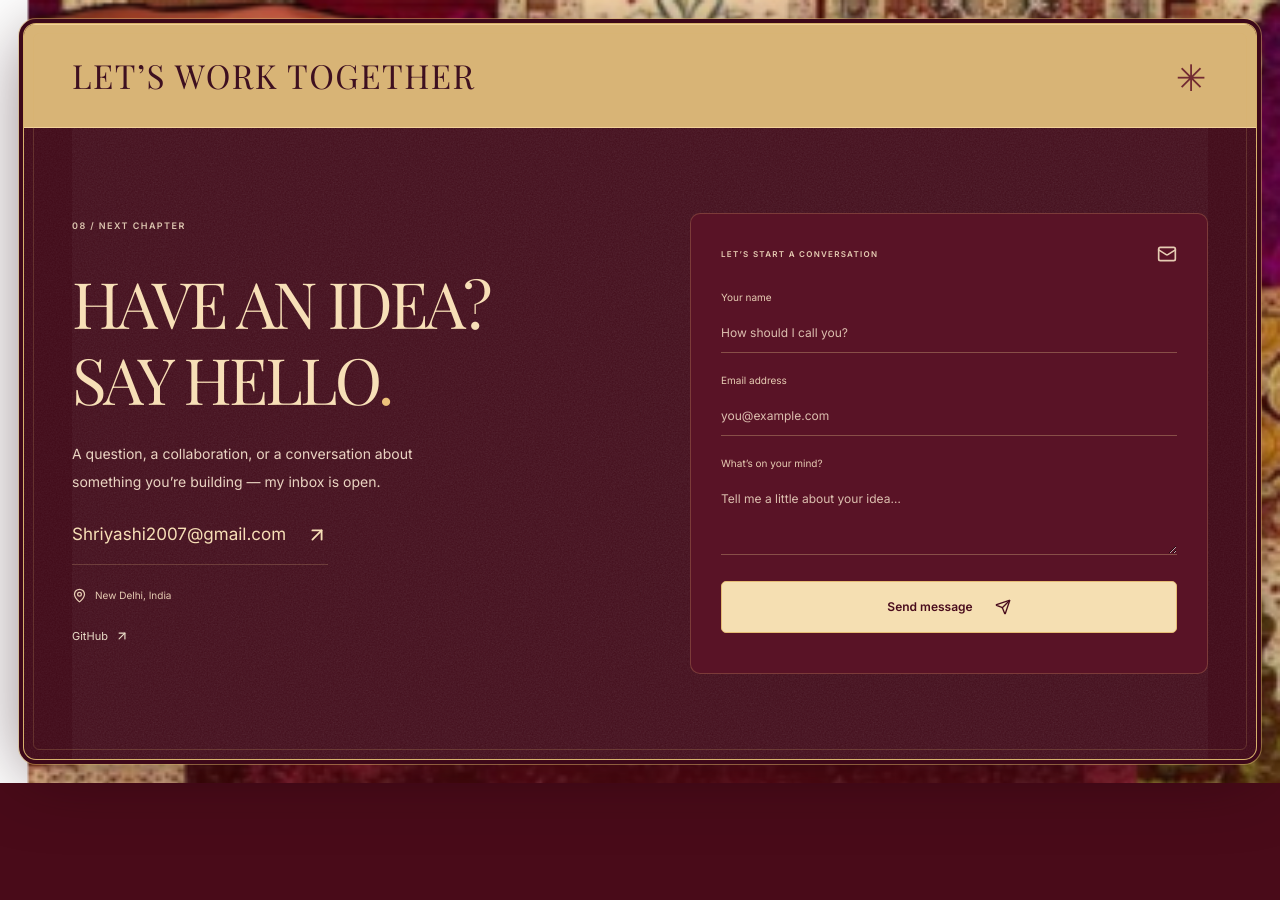
Test: reports delivery failure honestly
Type "Shriyashi" into the field labelled "Your name".
click(949, 333); type("Shriyashi")  # box [721,314,1177,353]
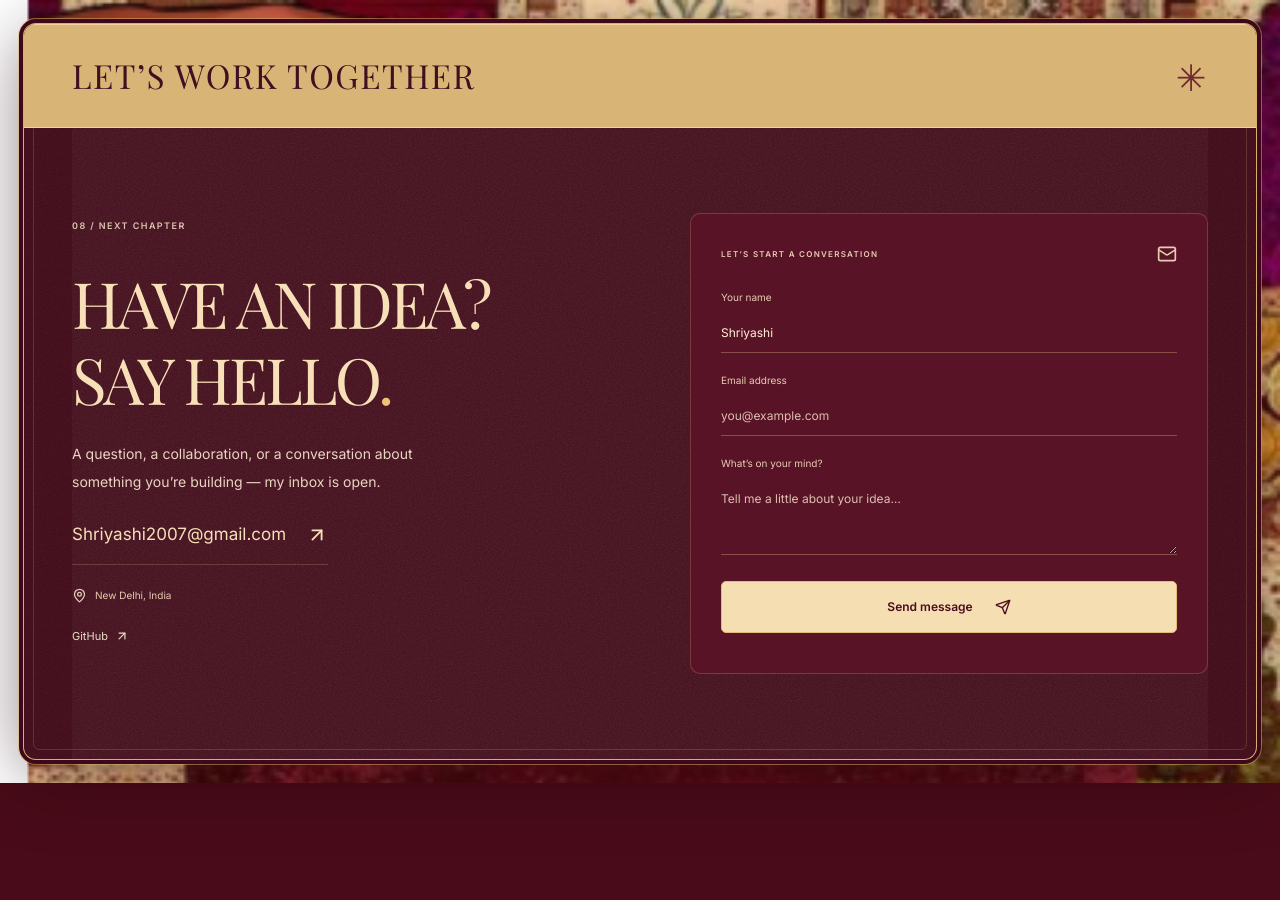
Type "test@example.com" into the field labelled "Email address".
click(949, 416); type("test@example.com")  # box [721,397,1177,436]
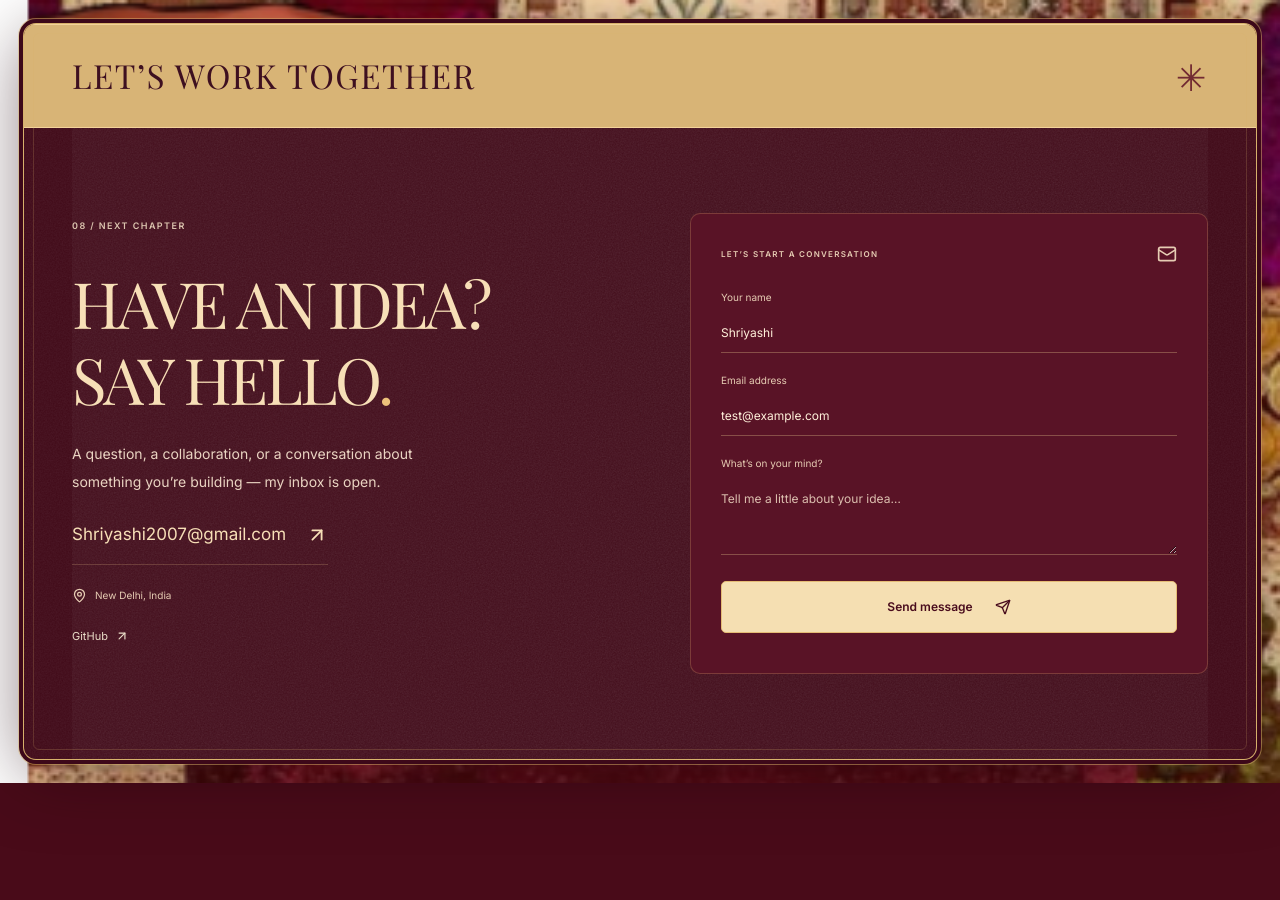
Type "Let us build something together." into the text box labelled "What’s on your mind?".
click(949, 517); type("Let us build something together.")  # box [721,480,1177,555]
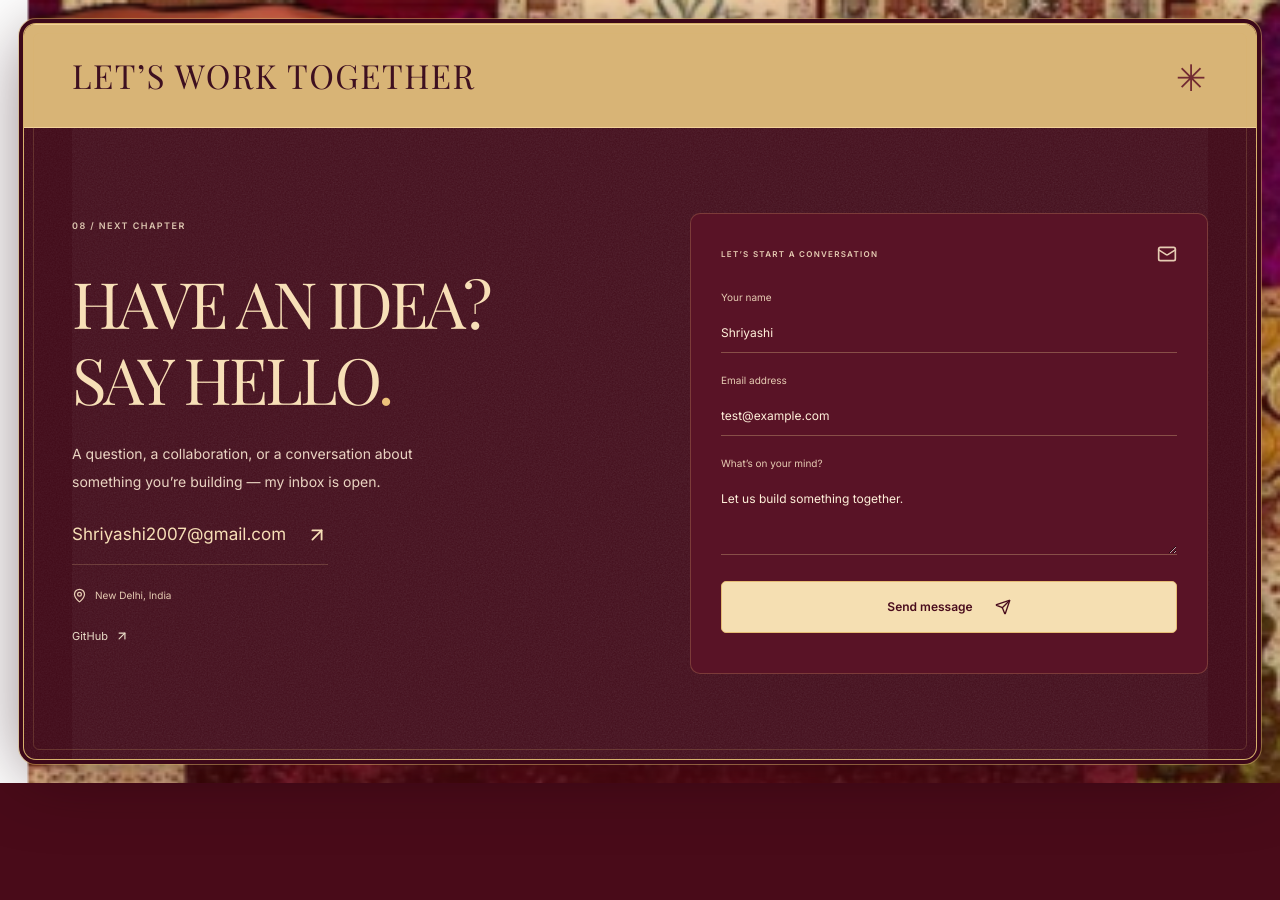
Click the button "Send message".
click(949, 607)  # box [721,581,1177,633]
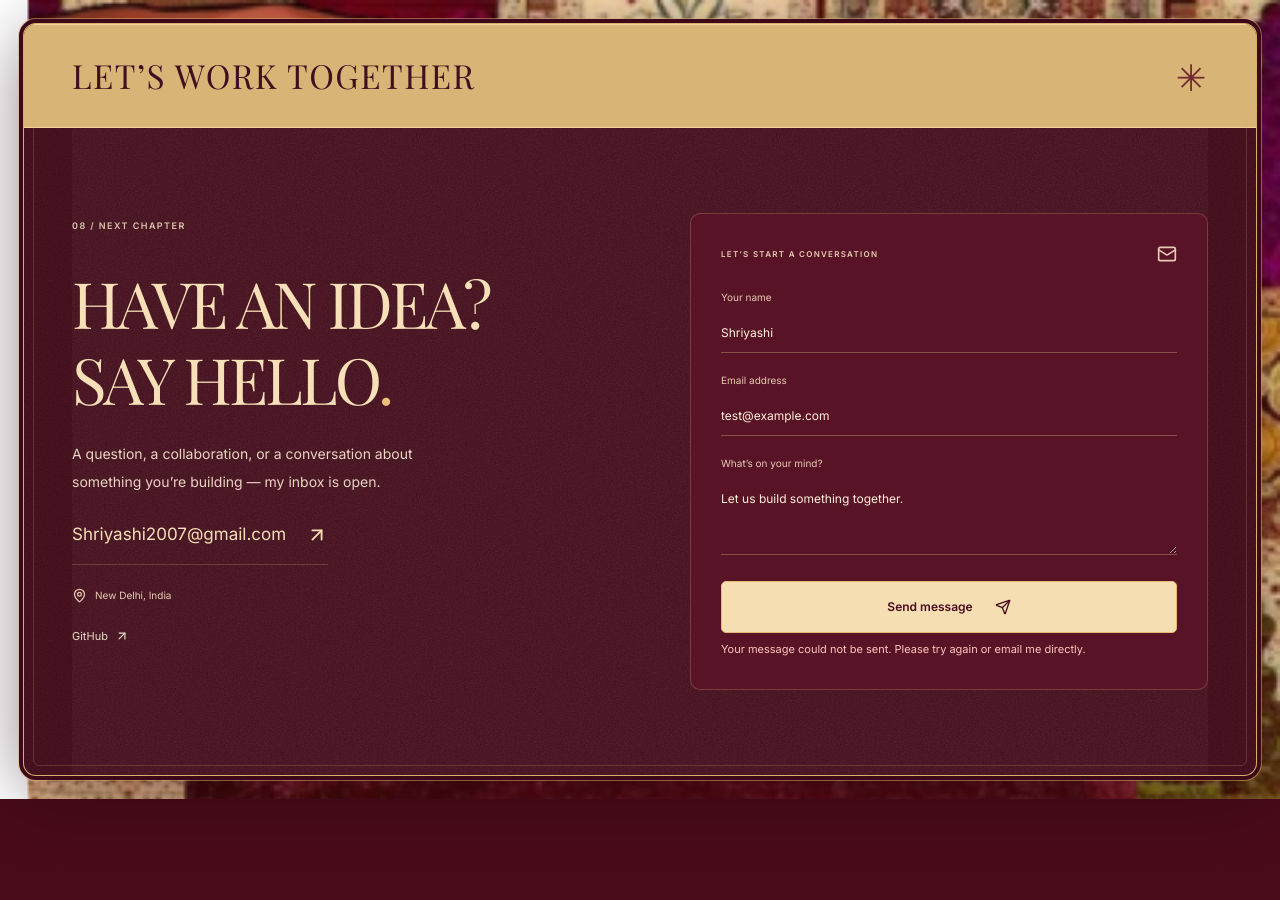
Check: the message shows "could not be sent", box [721,642,1086,656]
